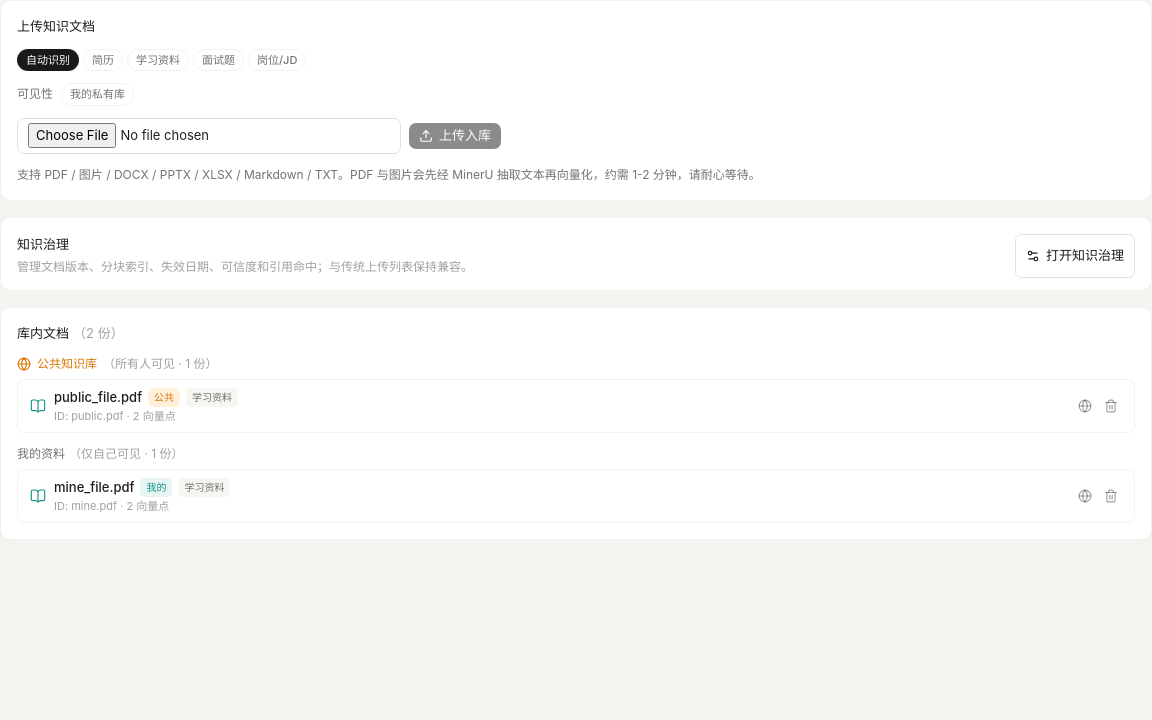
Test: KnowledgePanel visibility › 治理接口不可用时保留传统知识库列表并显示可操作错误
Expected: the text "mine_file.pdf" is shown, 54,478 -> 134,498
Click the button "打开知识治理": click(1075, 256) 1015,234 -> 1135,278
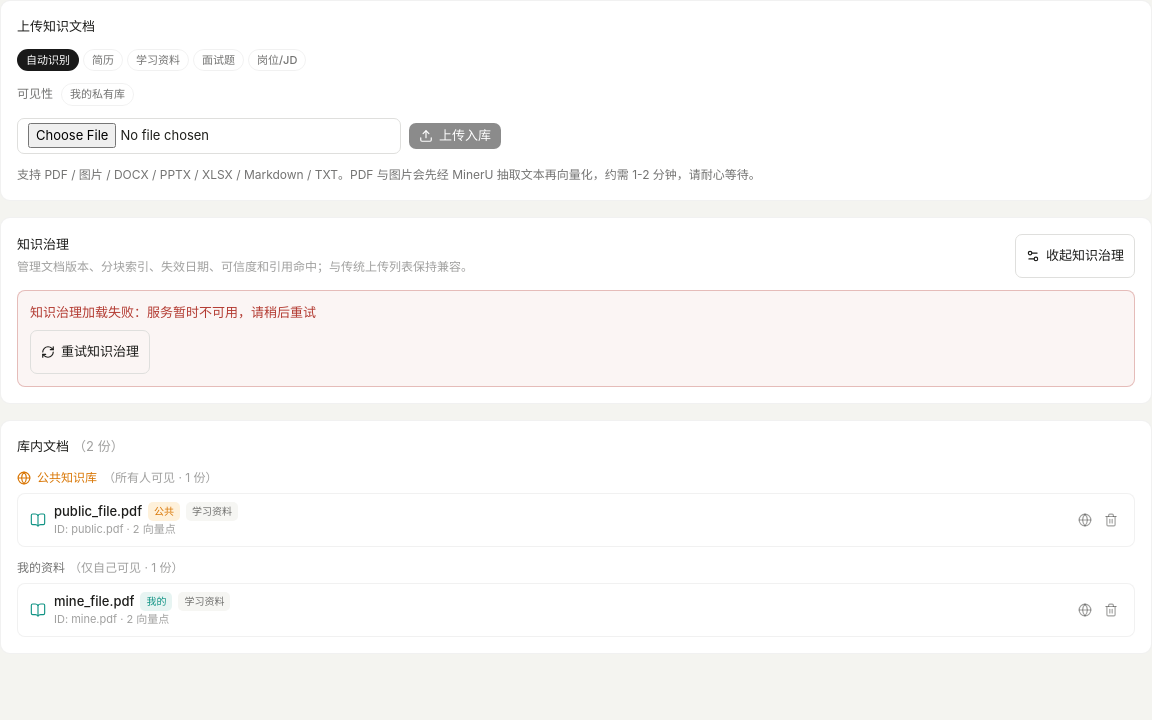
Expected: the text "public_file.pdf" is shown, 54,502 -> 142,521
Now the text "知识治理加载失败：服务暂时不可用，请稍后重试" is shown, box 30,304 -> 316,320
